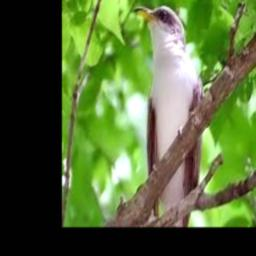Cuckoo: (135, 4, 204, 227)
